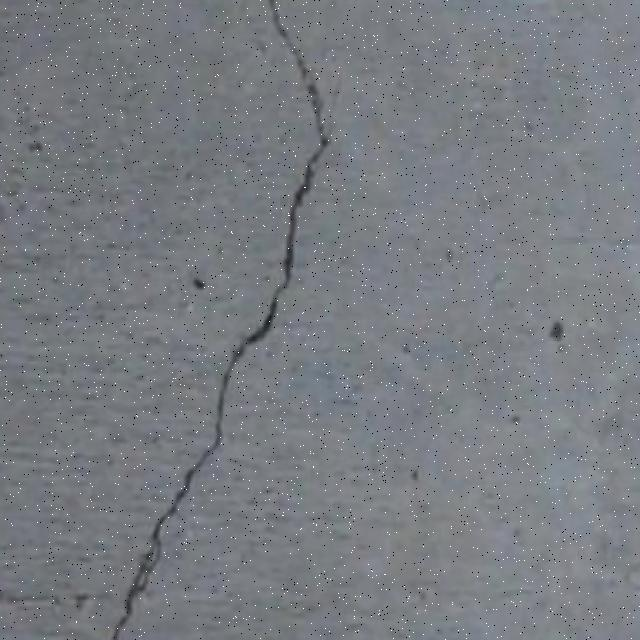moderate crack: (208, 326, 271, 438)
severe crack: (102, 11, 337, 638), (254, 0, 332, 176), (250, 161, 318, 334)
